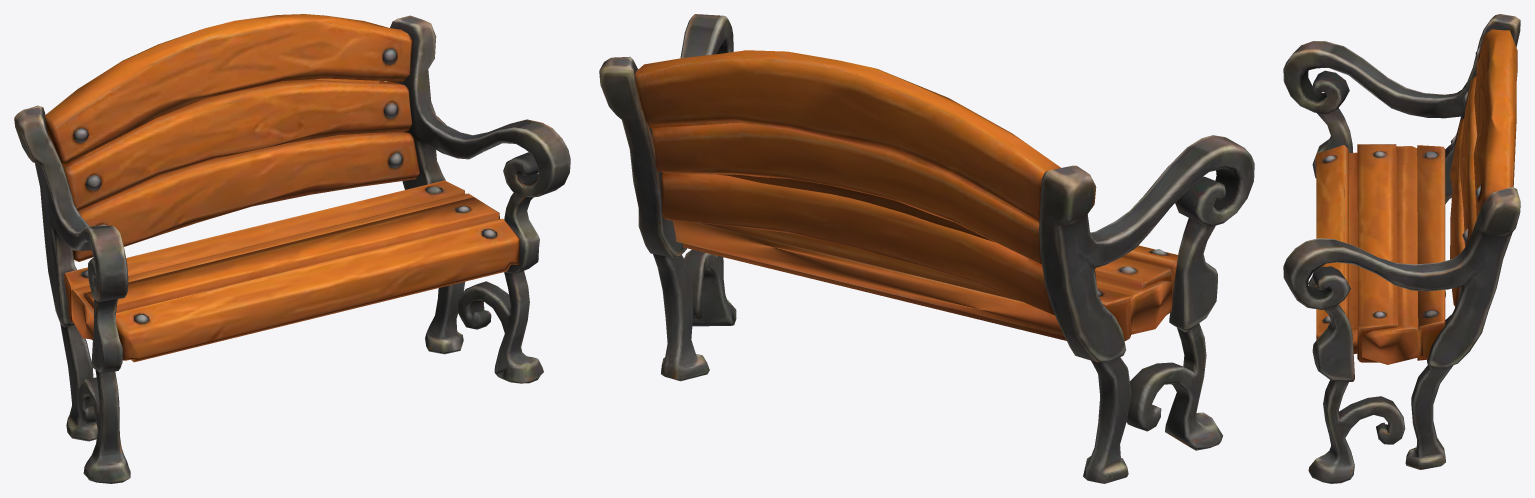
File: jardin_banc.glb
3 views of the same model, side by side, from view 1: azimuth 30°, elevation 25°; view 2: azimuth 150°, elevation 25°; view 3: azimuth 270°, elevation 25° (orthographic). The views are drawn at different scales.
Parts seen in each view (by area): view 1: geometry_0; view 2: geometry_0; view 3: geometry_0.
Boxes of the visible parts, bbox=[...] form: geometry_0: bbox=[14, 14, 570, 483]; geometry_0: bbox=[599, 14, 1254, 483]; geometry_0: bbox=[1283, 14, 1520, 483].
Bounding box in the file's own units: 0.9546 × 0.6451 × 0.4409.
1 material, 1 textured.
